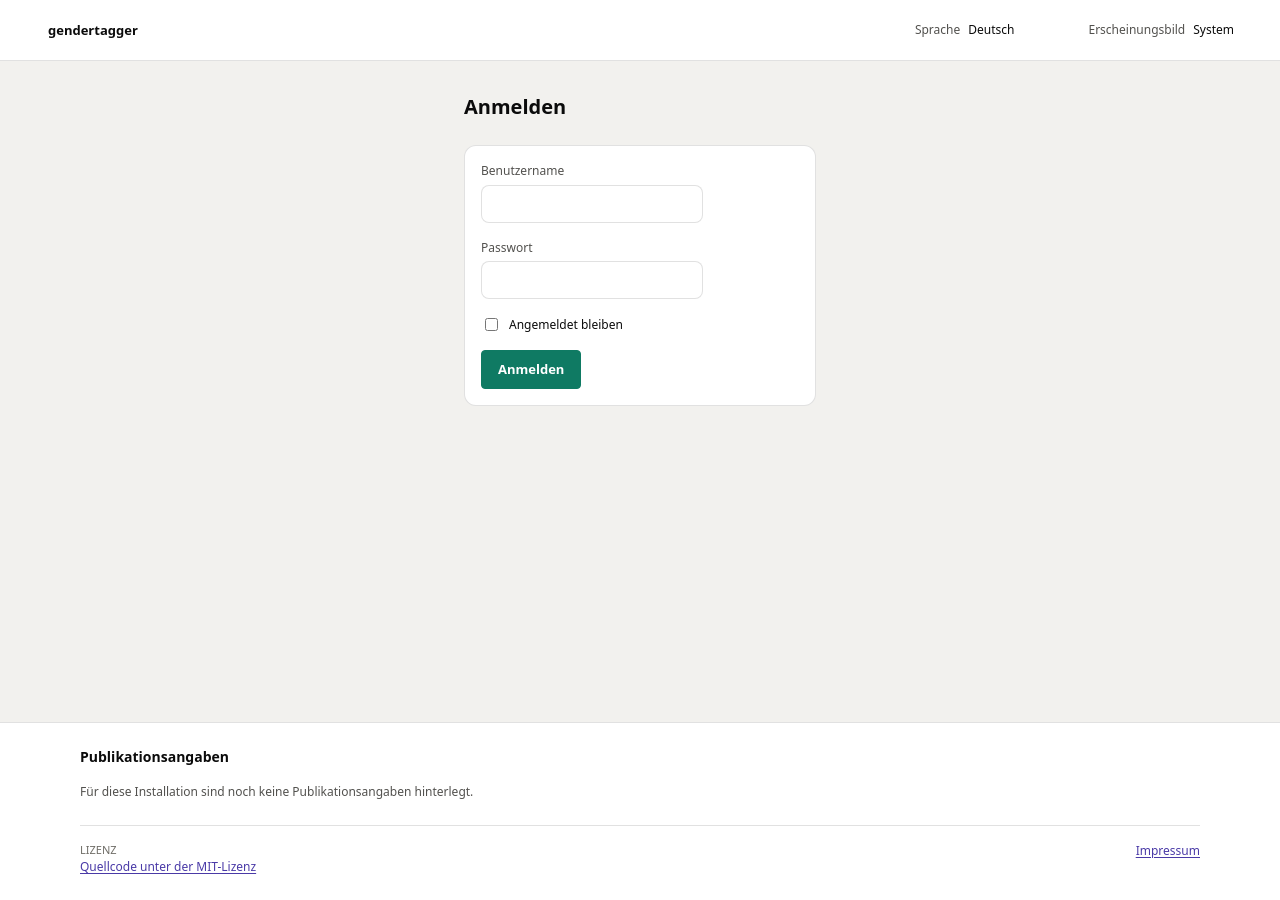
application shell in de › restores private navigation after a successful sign-in without duplicating presentation controls
This screenshot has width=1280, height=900.
Type "reviewer" into the field with id "login-username" at (592,204), box [481,185,703,223]
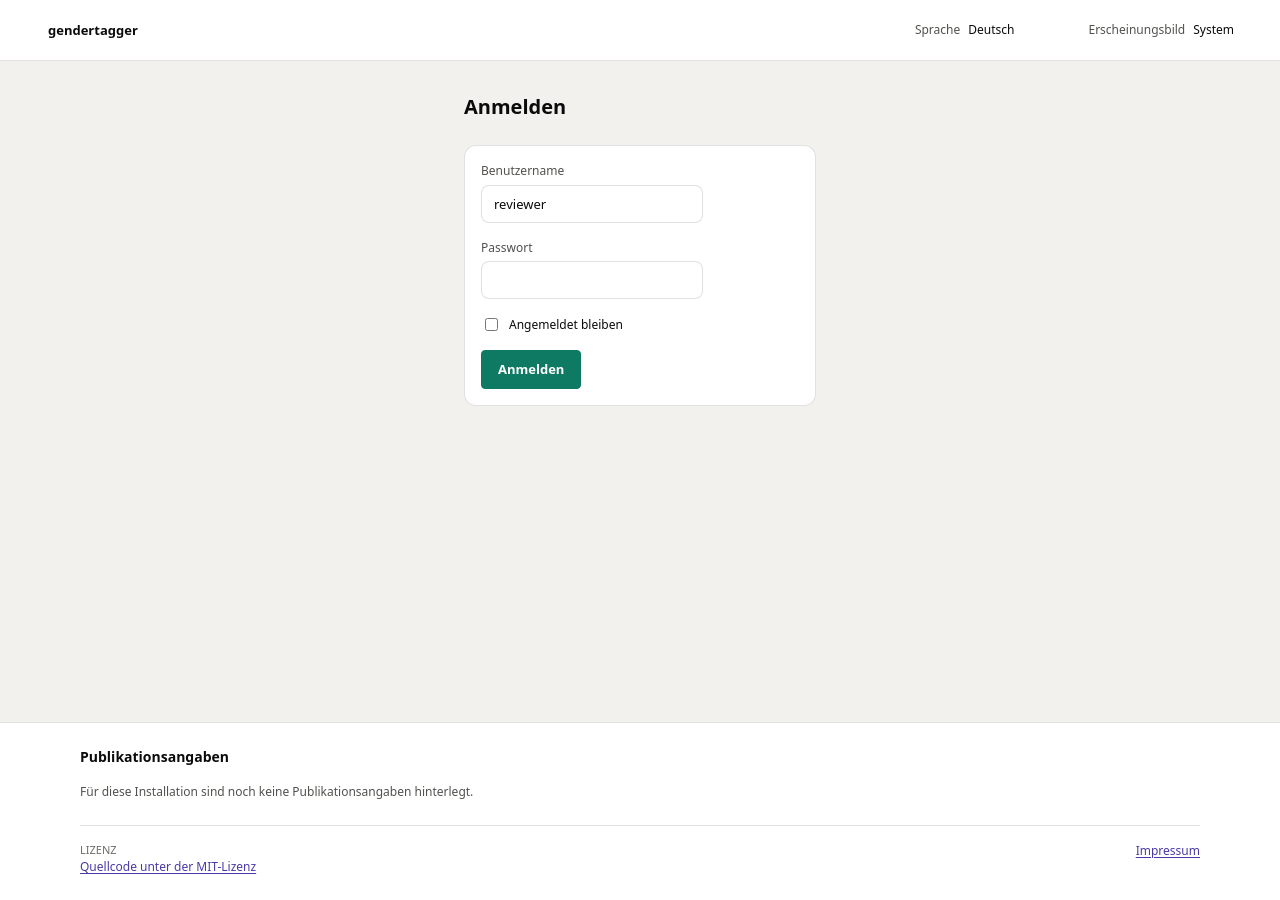
Type "correct-password" into the password field with id "login-password" at (592,280), box [481,261,703,299]
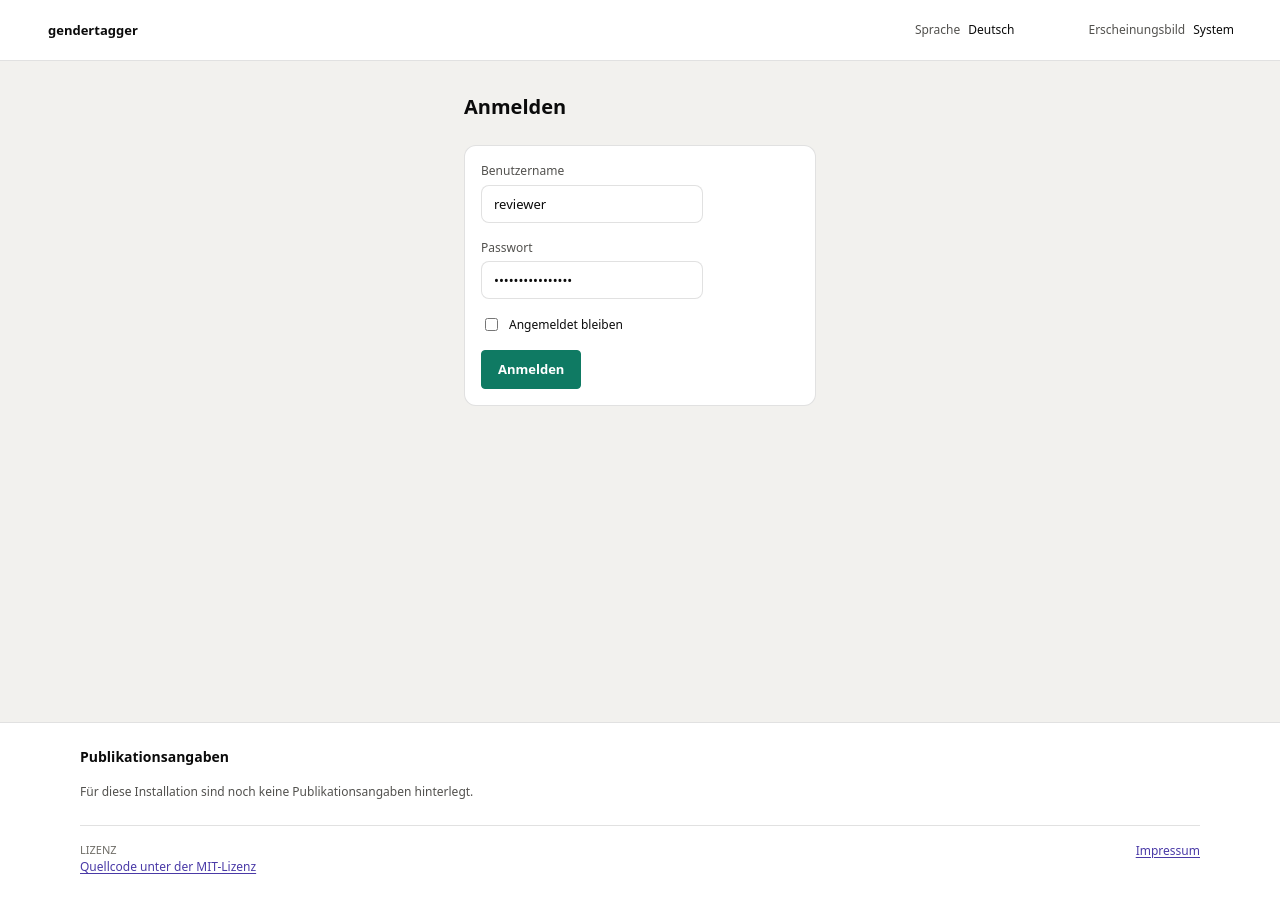
Submit the form with class "login-form", box [464,145,816,406]
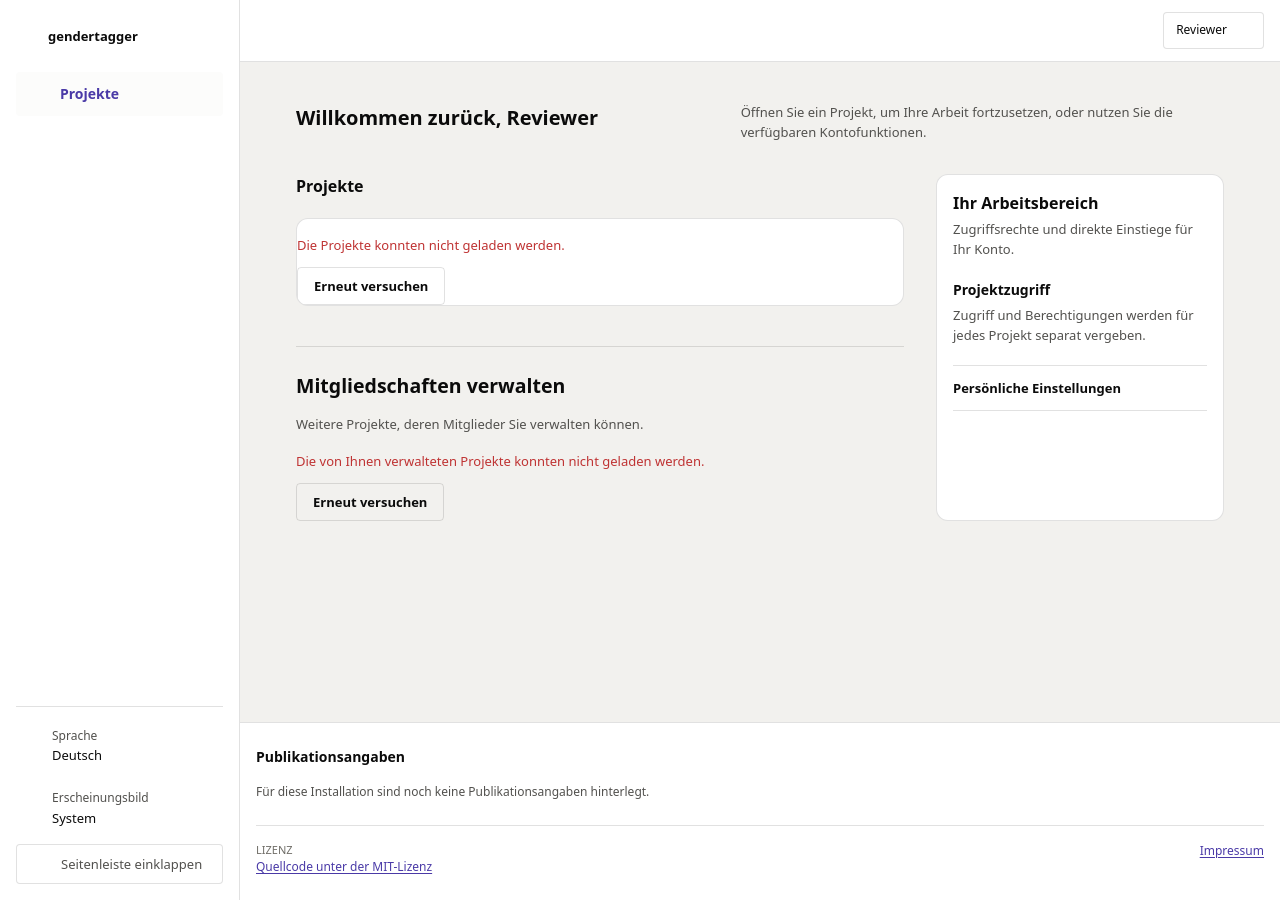
Now the element that starts with "gendertagger" is shown, box [0,0,240,899]
Now the link to "/" reads "Projekte", box [16,72,223,116]
Now the button with class "account-menu-button" reads "Reviewer", box [1163,12,1264,49]
